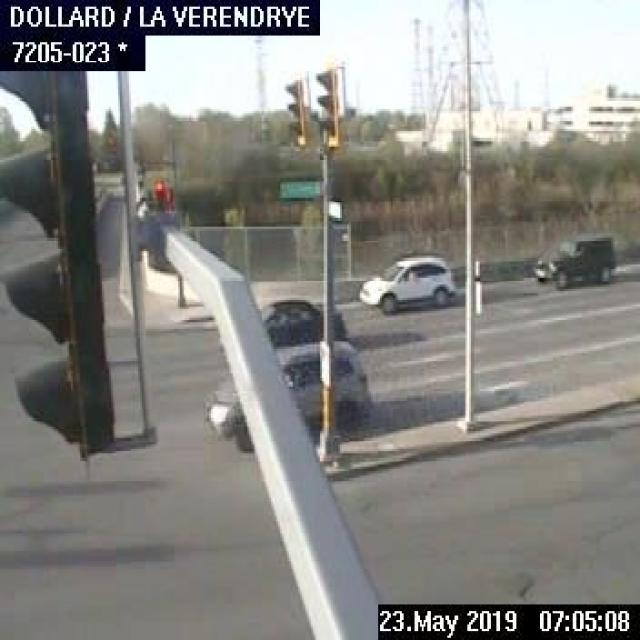vehicle: (203, 342, 367, 452), (356, 251, 454, 313), (531, 229, 616, 287), (262, 293, 344, 344)
